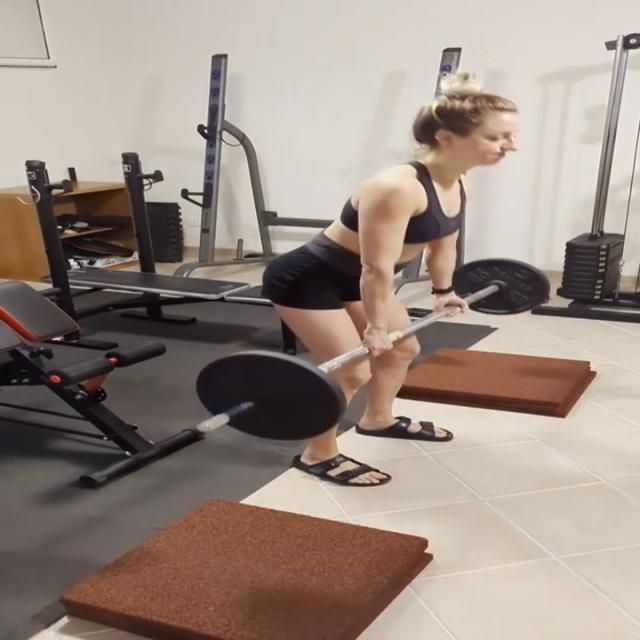barbell: (193, 350, 353, 448)
